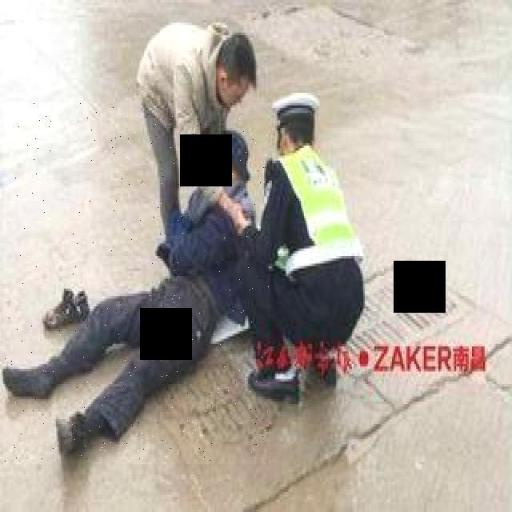Fall: (4, 103, 271, 465)
